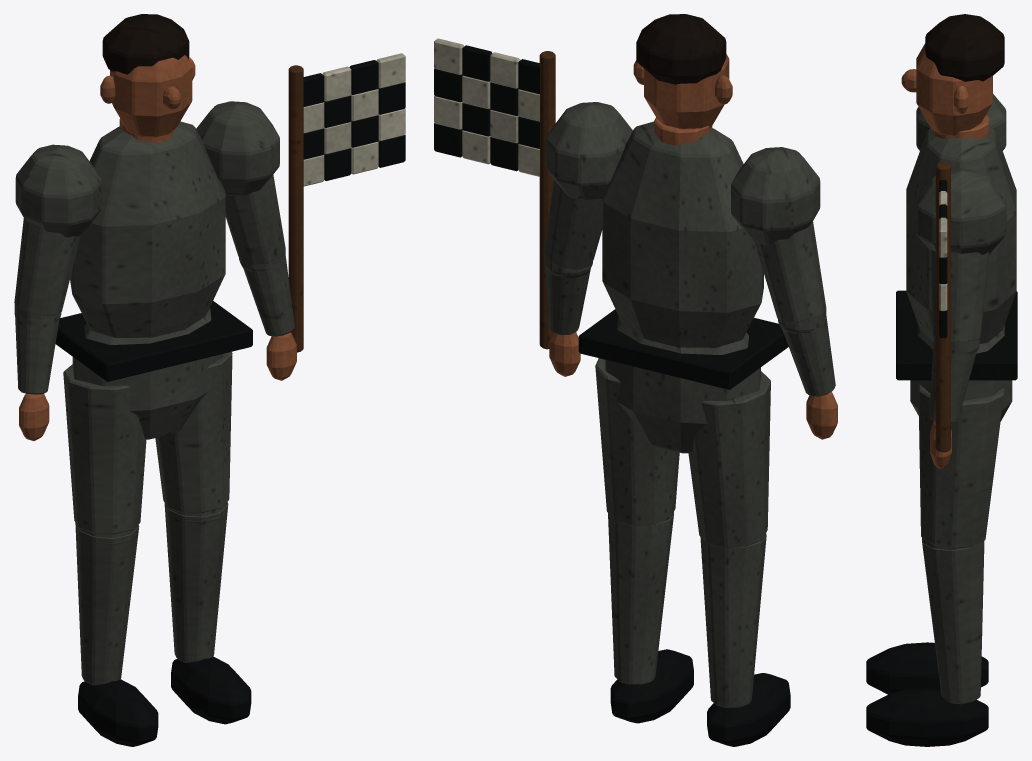
The model's file is PROP-4BAFAB2A8AC8_lod1.glb.
The picture shows the model from 3 angles, left to right: view 1: azimuth 30°, elevation 25°; view 2: azimuth 150°, elevation 25°; view 3: azimuth 270°, elevation 25°; orthographic projection. The views are drawn at different scales.
Visible parts, largest first — view 1: torso.040, thigh.039, calf.039, shoulder.040, upper_arm.040, shoe.039, belt.039, pelvis.039, checker_flag.004, checker_flag.005, forearm.040, head.039 (+4 smaller); view 2: torso.040, thigh.039, calf.039, shoulder.040, upper_arm.040, pelvis.039, shoe.039, belt.039, checker_flag.004, checker_flag.005, hair_cap.039, forearm.040 (+5 smaller); view 3: thigh.039, torso.040, shoe.039, calf.039, shoulder.040, belt.039, hair_cap.039, head.039, flag_pole.002, upper_arm.040, pelvis.039, forearm.040 (+7 smaller).
Part boxes in pixels (left/top/right/bottom): torso.040: left=70, top=121, right=225, bottom=338; thigh.039: left=63, top=352, right=232, bottom=534; calf.039: left=75, top=503, right=228, bottom=685; shoulder.040: left=15, top=101, right=279, bottom=237; upper_arm.040: left=14, top=175, right=285, bottom=315; shoe.039: left=78, top=656, right=251, bottom=746; belt.039: left=55, top=301, right=252, bottom=381; pelvis.039: left=72, top=308, right=222, bottom=439; checker_flag.004: left=303, top=53, right=405, bottom=186; checker_flag.005: left=303, top=60, right=405, bottom=180; forearm.040: left=15, top=255, right=294, bottom=394; head.039: left=110, top=55, right=192, bottom=137; torso.040: left=602, top=121, right=763, bottom=347; thigh.039: left=595, top=358, right=770, bottom=547; calf.039: left=608, top=512, right=766, bottom=708; shoulder.040: left=546, top=102, right=820, bottom=245; upper_arm.040: left=544, top=179, right=825, bottom=322; pelvis.039: left=605, top=317, right=760, bottom=453; shoe.039: left=610, top=649, right=790, bottom=746; belt.039: left=578, top=309, right=788, bottom=389; checker_flag.004: left=434, top=38, right=539, bottom=176; checker_flag.005: left=434, top=45, right=539, bottom=171; hair_cap.039: left=636, top=14, right=726, bottom=84; forearm.040: left=545, top=266, right=835, bottom=396; thigh.039: left=918, top=384, right=1003, bottom=548; torso.040: left=906, top=126, right=1016, bottom=343; shoe.039: left=866, top=642, right=988, bottom=746; calf.039: left=922, top=538, right=984, bottom=704; shoulder.040: left=916, top=94, right=1006, bottom=254; belt.039: left=896, top=290, right=1017, bottom=380; hair_cap.039: left=925, top=14, right=1004, bottom=81; head.039: left=916, top=43, right=992, bottom=135; flag_pole.002: left=935, top=162, right=950, bottom=452; upper_arm.040: left=931, top=250, right=989, bottom=341; pelvis.039: left=910, top=325, right=1012, bottom=421; forearm.040: left=929, top=340, right=976, bottom=423.
Size of the model in its own units: 0.9963 by 1.71 by 0.3357.
6 materials, 6 textured.
